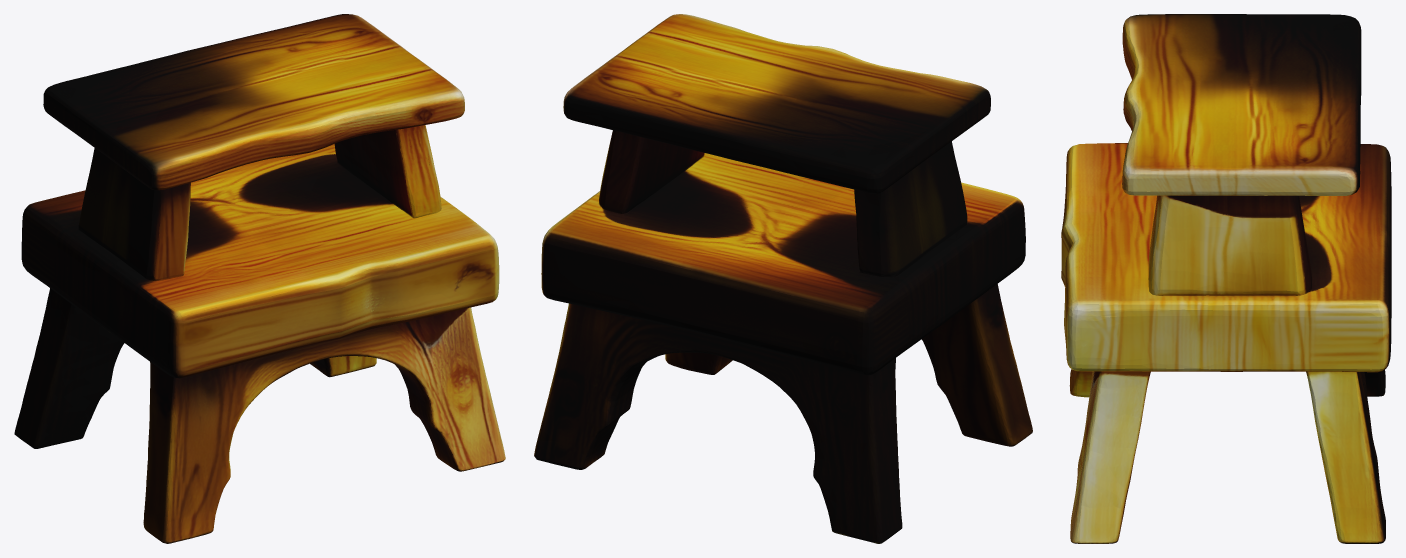
Rendered from wooden-step-stool-rustic.jpeg.glb.
3 views of the same model, side by side, from view 1: azimuth 30°, elevation 25°; view 2: azimuth 150°, elevation 25°; view 3: azimuth 270°, elevation 25° (orthographic). The views are drawn at different scales.
Parts seen in each view (by area): view 1: world; view 2: world; view 3: world.
Part boxes in pixels (box(x1,y1,x2,y2)): world: box(14, 14, 505, 543); world: box(534, 14, 1032, 543); world: box(1061, 14, 1391, 543).
Size of the model in its own units: 1 by 0.9942 by 0.8044.
Materials: 1 (1 with a texture image).
